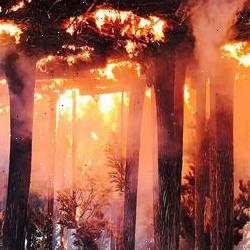fire: (0, 3, 249, 140)
